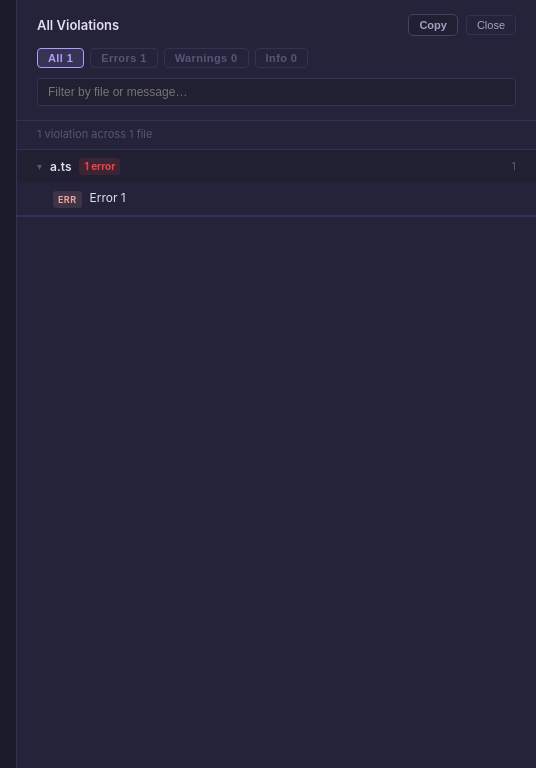
Test: ViolationsPanel › toggles collapse/expand on file group click
Expected: the text "Error 1" is shown, [90, 190, 126, 205]
Click the text "a.ts": (61, 167) [50, 158, 72, 175]
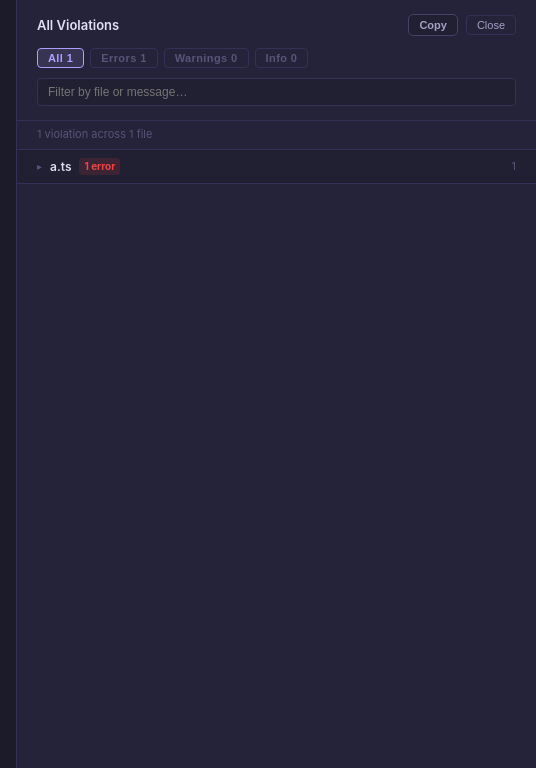
Click the text "a.ts": (61, 167) [50, 158, 72, 175]
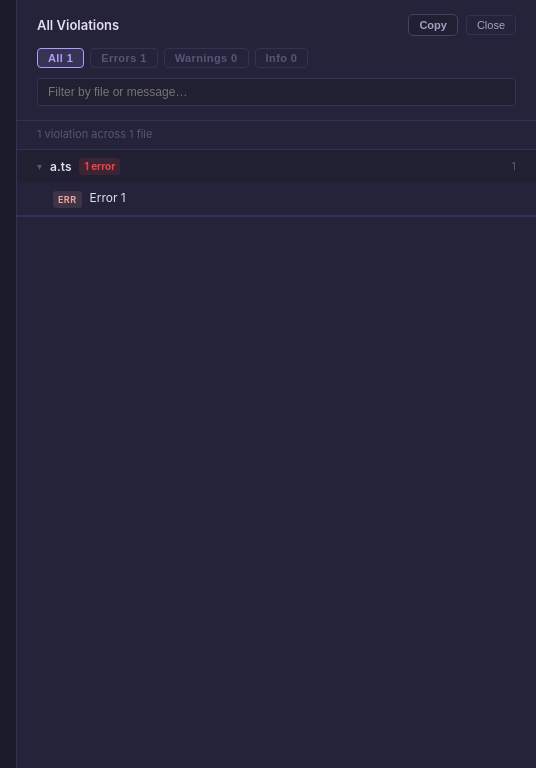
Expected: the text "Error 1" is shown, [90, 190, 126, 205]
